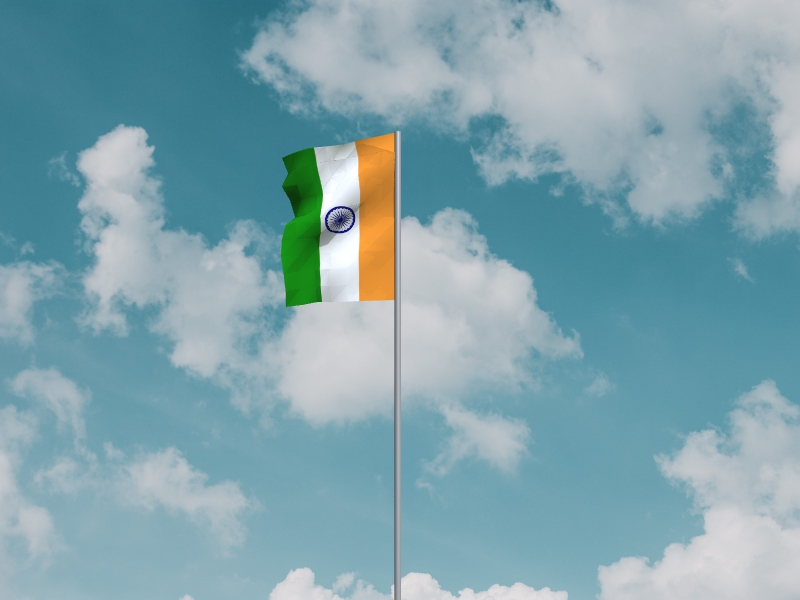in: (281, 133, 395, 308)
